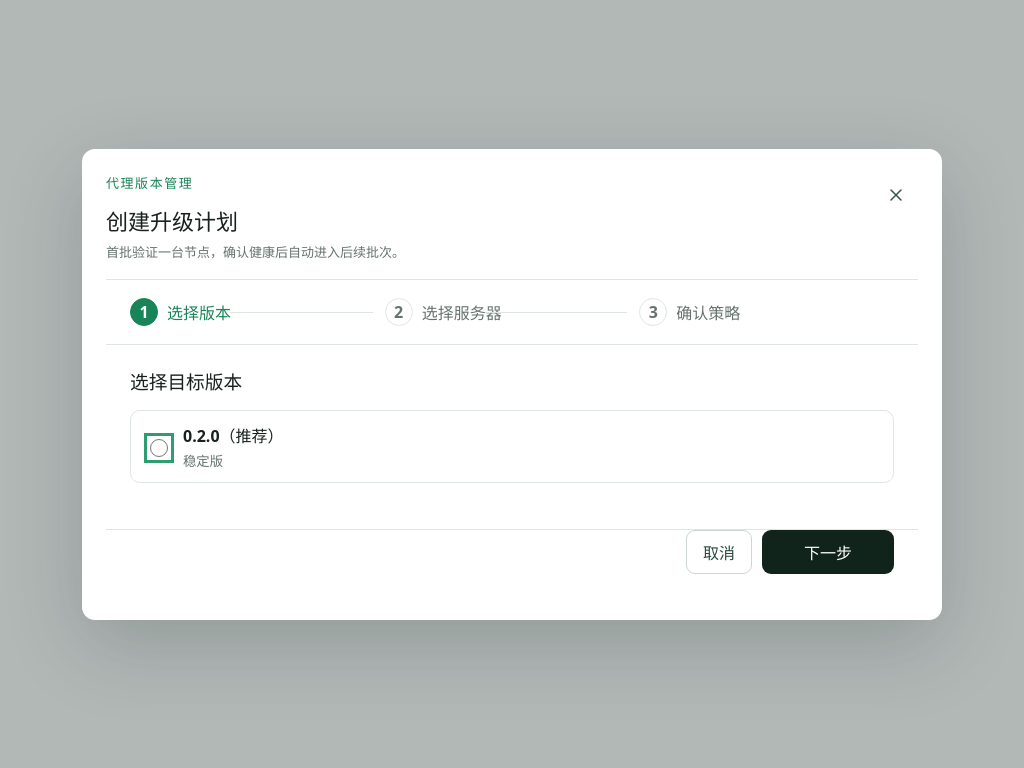
Test: 升级计划向导 › 推荐 0.2.0 不允许当前 0.2.6 降级，相等或无法比较的版本显示禁选原因
Click the radio button labelled "0.2.0（推荐） 稳定版": (159, 448) 150,438 -> 168,456
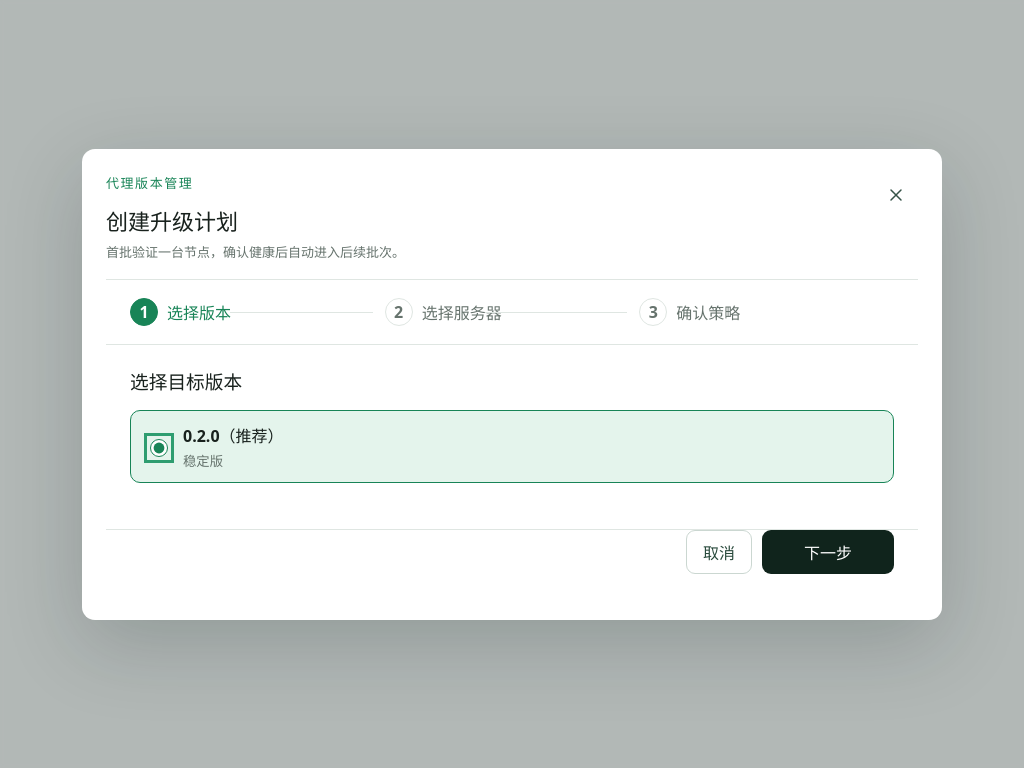
Click the button "下一步": (828, 552) 762,530 -> 894,574
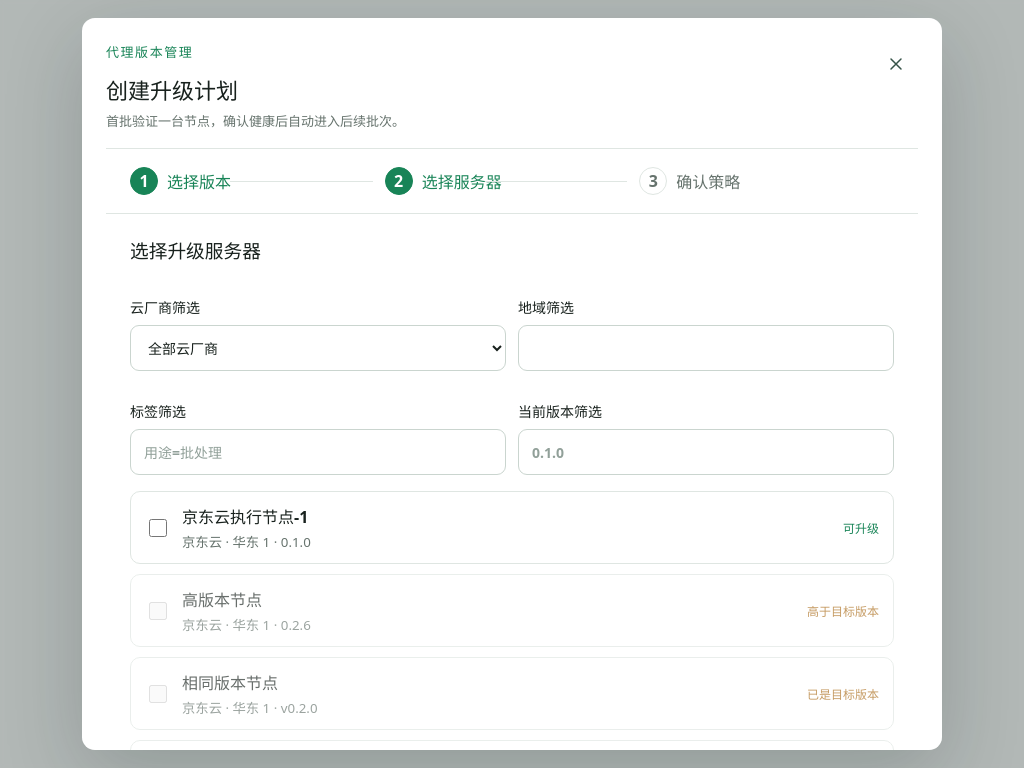
Expected: the checkbox labelled "高版本节点 京东云 · 华东 1 · 0.2.6 高于目标版本" is disabled, 149,602 -> 167,620
Expected: the text "高于目标版本" is shown, 807,602 -> 879,620
Expected: the checkbox labelled "相同版本节点 京东云 · 华东 1 · v0.2.0 已是目标版本" is disabled, 149,684 -> 167,702
